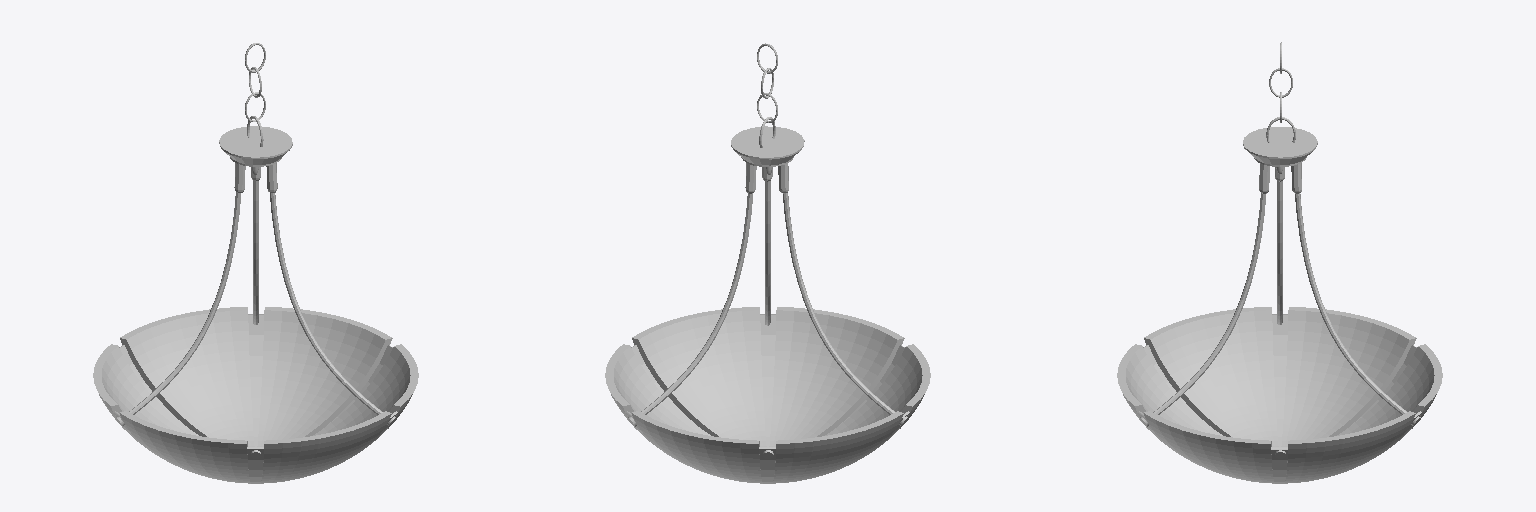
File: lamp_light.obj
3 views of the same model, side by side, from view 1: azimuth 30°, elevation 25°; view 2: azimuth 150°, elevation 25°; view 3: azimuth 270°, elevation 25° (orthographic).
Visible parts, largest first — view 1: Rectangle6, Rectangle1, Rectangle3, Rectangle4, Rectangle5, Rectangle2, Circle09, Line05, Line01, Rectangl11, Line03; view 2: Rectangle2, Rectangle3, Rectangle5, Rectangle6, Rectangle1, Rectangle4, Circle09, Line01, Line03, Rectangle7, Line05; view 3: Rectangle4, Rectangle5, Rectangle1, Rectangle2, Rectangle3, Rectangle6, Circle09, Line05, Line03, Rectangle9, Line01.
Boxes of the visible parts, <box> form: Rectangle6: <box>120,307,254,446</box>; Rectangle1: <box>257,307,392,446</box>; Rectangle3: <box>260,411,391,483</box>; Rectangle4: <box>120,411,250,483</box>; Rectangle5: <box>93,344,198,447</box>; Rectangle2: <box>313,344,418,447</box>; Circle09: <box>219,126,292,166</box>; Line05: <box>270,193,382,414</box>; Line01: <box>129,192,240,414</box>; Rectangl11: <box>248,314,263,446</box>; Line03: <box>253,181,258,324</box>; Rectangle2: <box>632,307,766,446</box>; Rectangle3: <box>769,307,904,446</box>; Rectangle5: <box>772,411,903,483</box>; Rectangle6: <box>632,411,762,483</box>; Rectangle1: <box>605,344,710,447</box>; Rectangle4: <box>825,344,930,447</box>; Circle09: <box>731,126,804,166</box>; Line01: <box>783,193,894,414</box>; Line03: <box>641,193,752,414</box>; Rectangle7: <box>760,314,775,446</box>; Line05: <box>765,181,770,325</box>; Rectangle4: <box>1144,307,1278,446</box>; Rectangle5: <box>1281,307,1416,446</box>; Rectangle1: <box>1284,411,1415,483</box>; Rectangle2: <box>1144,411,1274,483</box>; Rectangle3: <box>1117,344,1222,447</box>; Rectangle6: <box>1337,344,1442,447</box>; Circle09: <box>1243,127,1317,166</box>; Line05: <box>1153,193,1266,414</box>; Line03: <box>1295,193,1406,414</box>; Rectangle9: <box>1272,314,1287,446</box>; Line01: <box>1277,181,1282,324</box>.
Size of the model in its own units: 102 by 147 by 102.